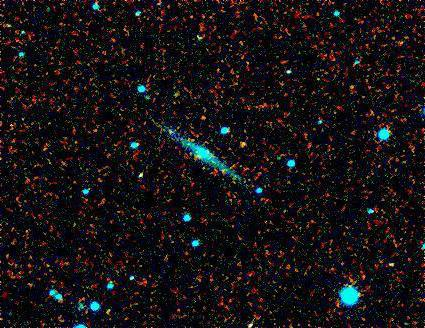star: (230, 131, 260, 161)
